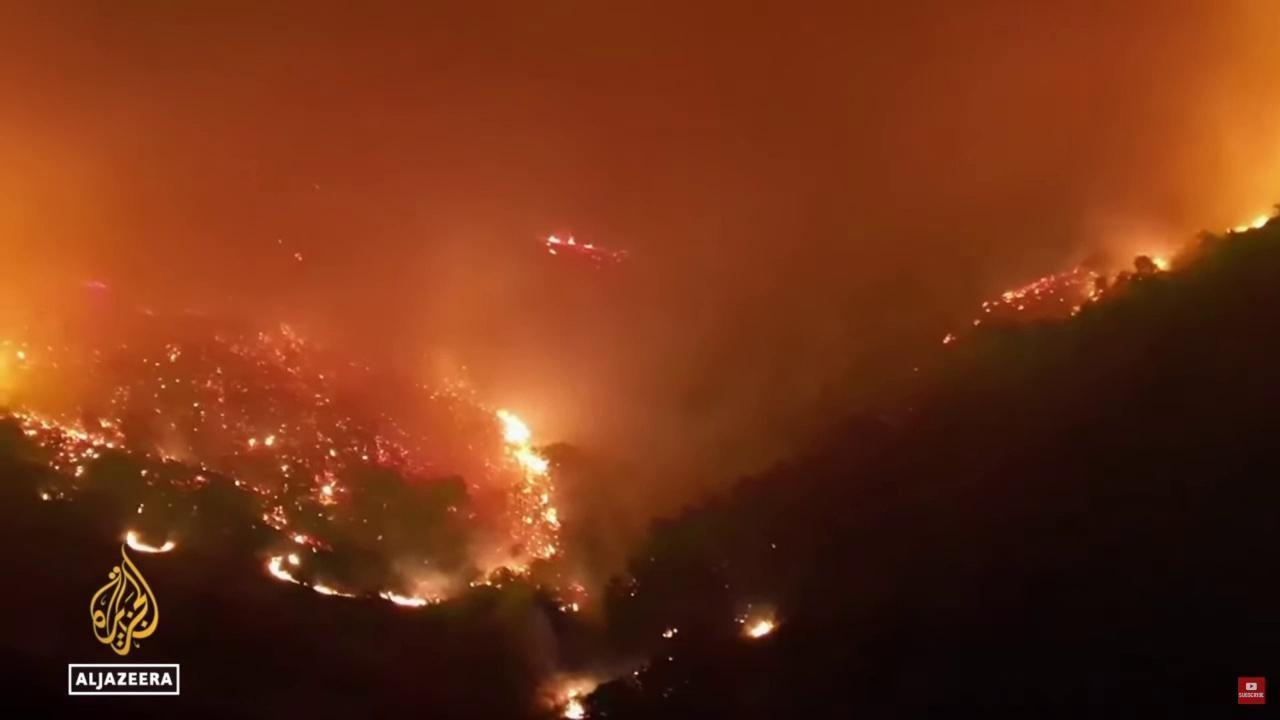fire: (492, 406, 565, 560), (11, 402, 135, 481), (1001, 263, 1106, 322), (537, 227, 600, 264), (466, 560, 532, 590), (735, 605, 784, 645), (263, 552, 310, 588), (119, 528, 180, 555), (374, 590, 444, 611), (310, 470, 347, 507), (1220, 211, 1273, 236), (373, 432, 409, 467), (557, 685, 590, 720), (292, 530, 335, 556), (311, 579, 358, 599), (1144, 248, 1175, 275), (280, 321, 305, 354), (259, 503, 288, 530), (165, 342, 184, 363), (80, 278, 108, 290), (660, 626, 680, 639), (981, 301, 1000, 314), (941, 333, 957, 344), (264, 433, 276, 447), (292, 251, 305, 263), (40, 490, 51, 503), (135, 504, 146, 515), (568, 603, 579, 614), (15, 350, 26, 360), (248, 437, 256, 450), (973, 318, 983, 328), (328, 446, 337, 457), (558, 603, 566, 614), (361, 454, 368, 462), (235, 478, 240, 487)
smoke: (0, 0, 1280, 618)
